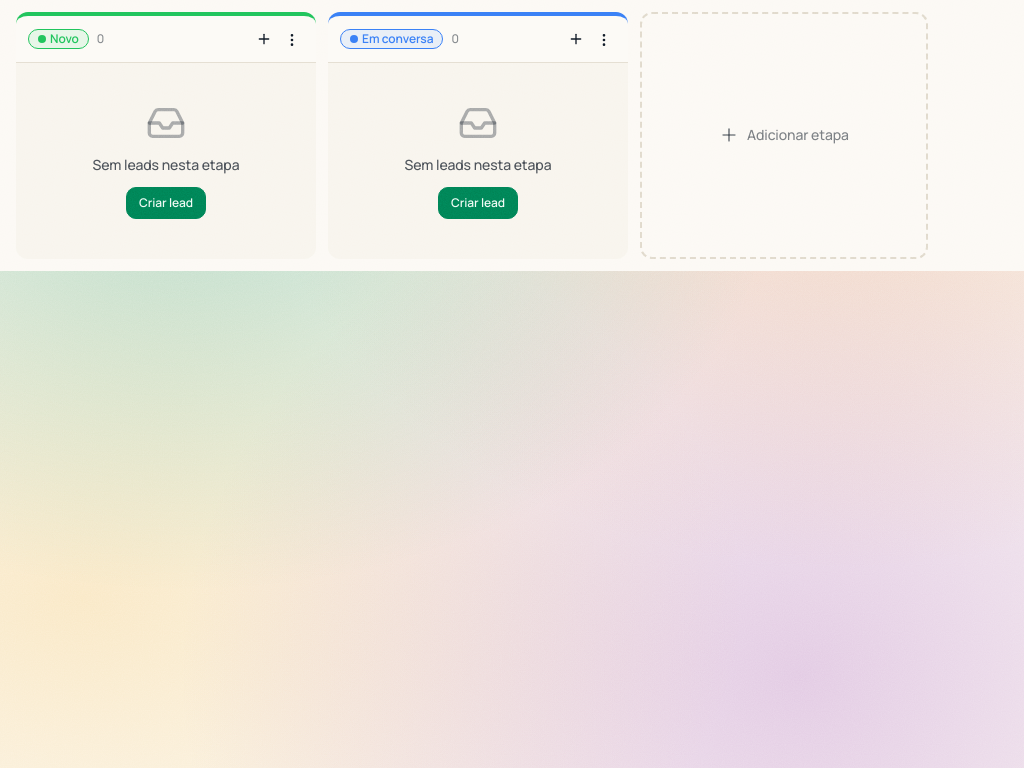
Stage management — owner › clicking + shows create form
This screenshot has width=1024, height=768.
Check: the text "Novo" is shown, box [28,29,89,49]
Click the button labelled "Adicionar etapa" at {"x": 784, "y": 135}, box [640,12,928,259]
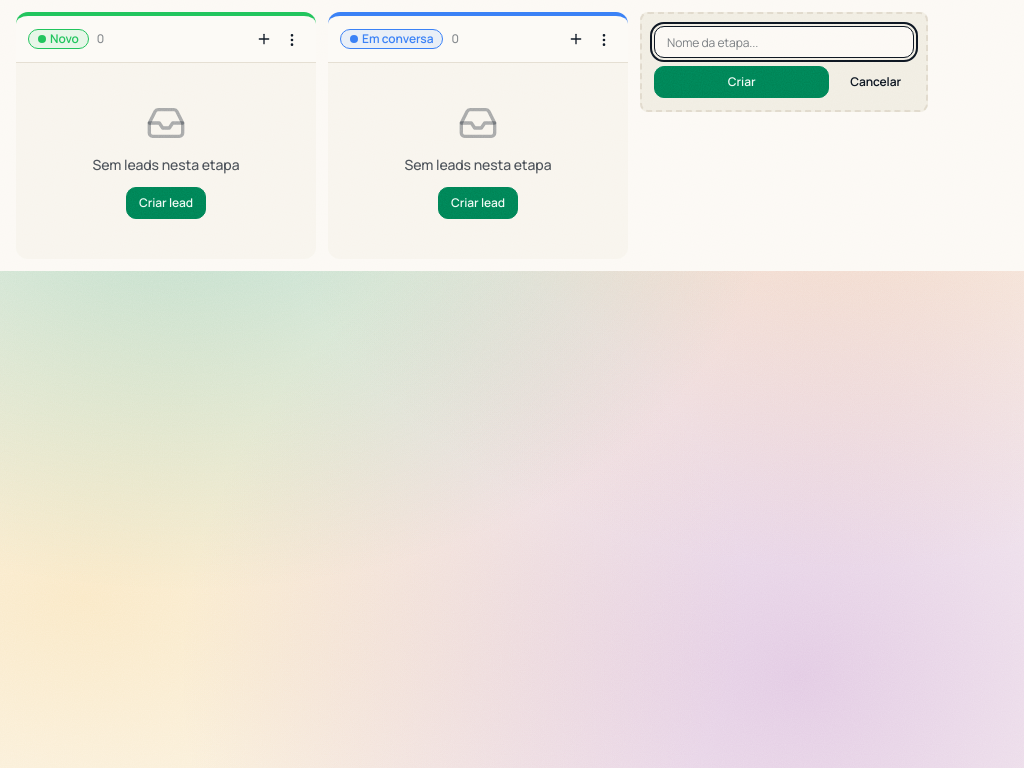
Check: the field with placeholder "Nome da etapa..." is shown, box [654,26,914,58]
